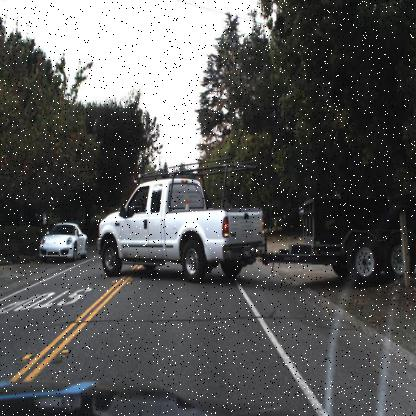car: (38, 221, 86, 262)
truck: (96, 156, 414, 276)
